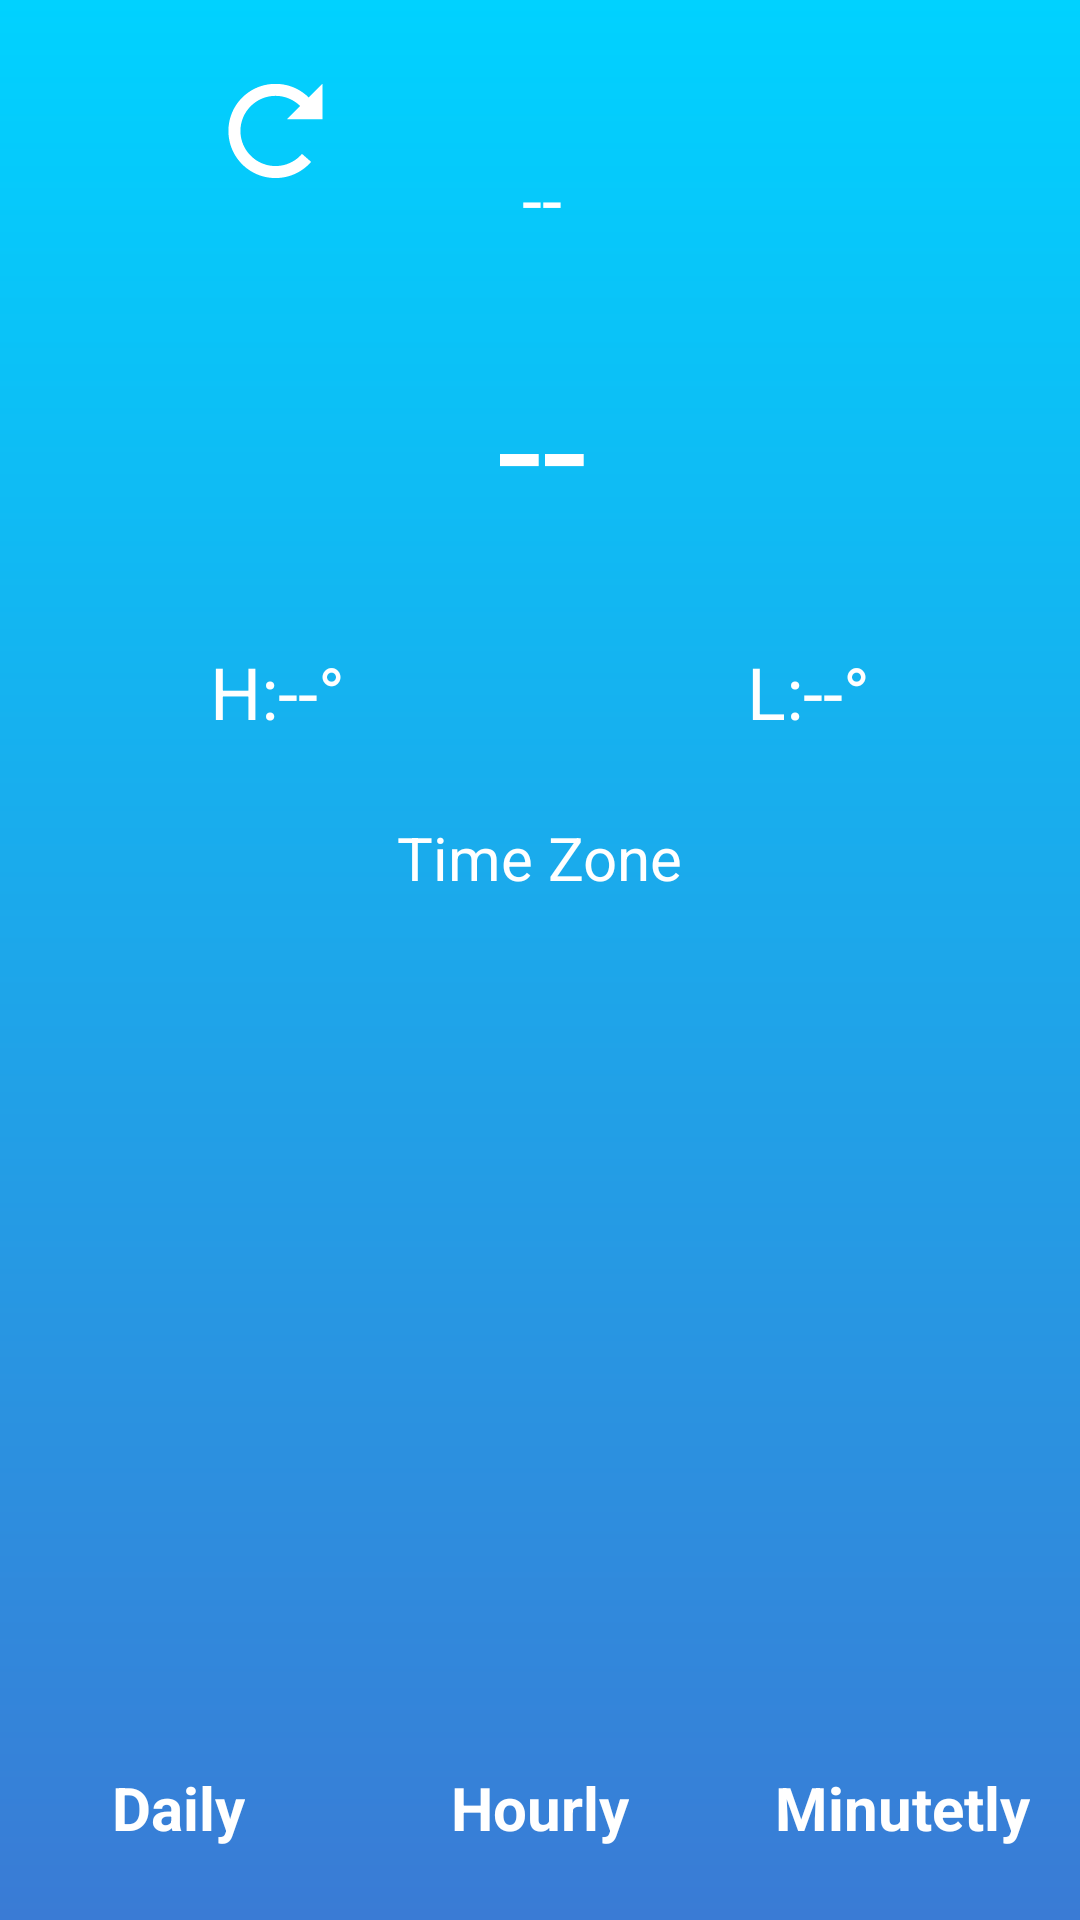

Where icons sit on this 1080*1920 app screen, as rect(x1, y1, x2, y2):
refresh: rect(228, 84, 323, 178)
